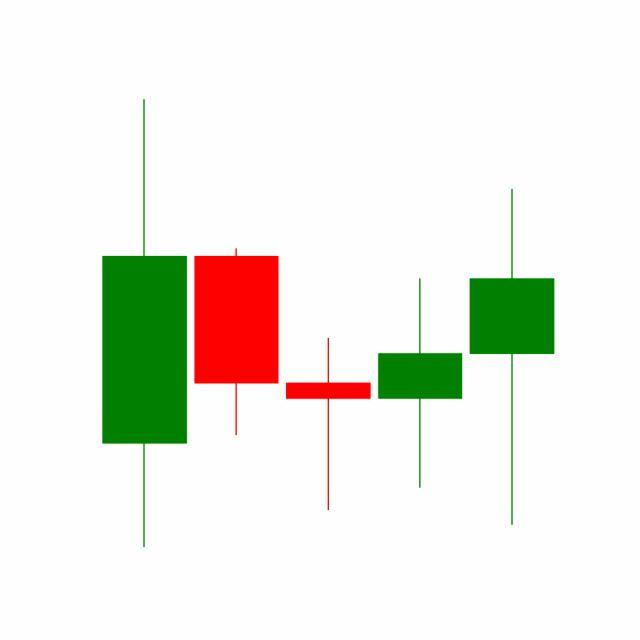Spinning Top: (466, 185, 559, 529)
